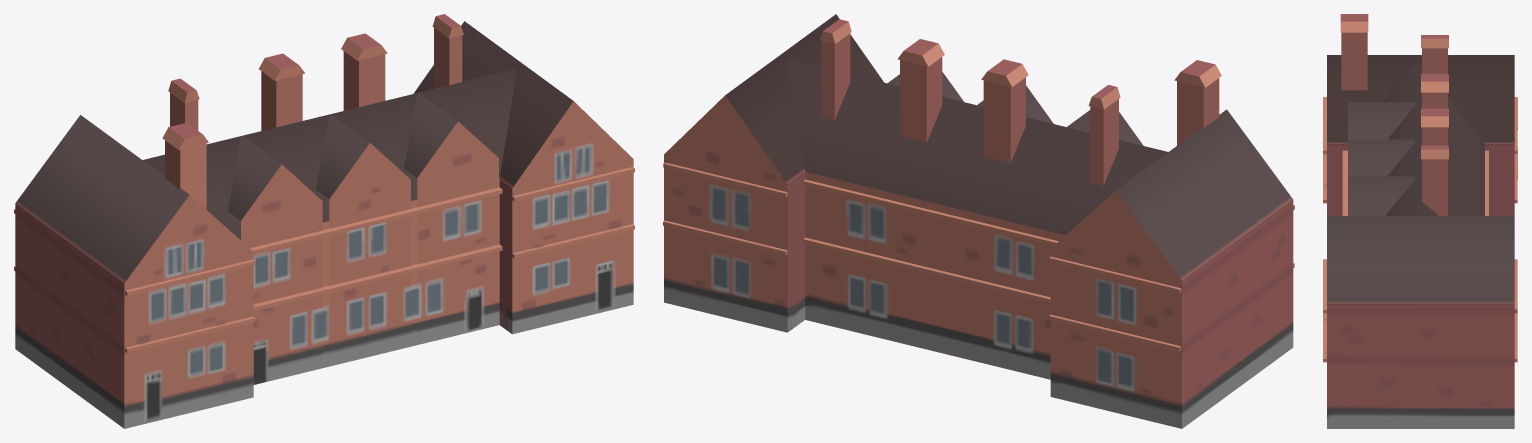
File: shops.FBX
3 renders of one model, left to right at view 1: azimuth 30°, elevation 25°; view 2: azimuth 150°, elevation 25°; view 3: azimuth 270°, elevation 25°, orthographic. The views are drawn at different scales.
Visible parts, largest first — view 1: Box001; view 2: Box001; view 3: Box001.
Boxes of the visible parts, box(x1,y1,x2,y2) form: Box001: box(14, 14, 634, 428); Box001: box(663, 14, 1294, 428); Box001: box(1323, 14, 1517, 428).
Size of the model in its own units: 28.95 by 14.53 by 11.15.
